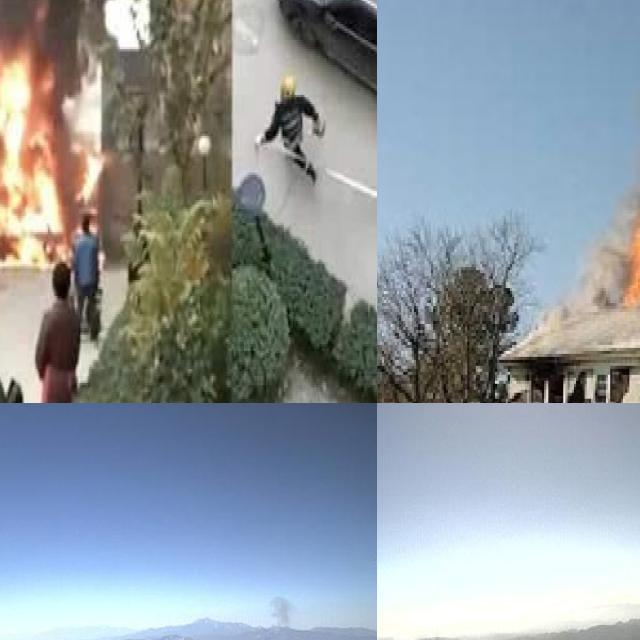fire: (0, 3, 73, 263), (595, 144, 640, 329)
smoke: (263, 589, 297, 640), (377, 622, 412, 640)
